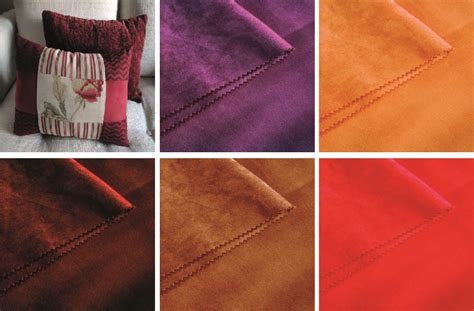gamuza: (1, 2, 474, 311)
